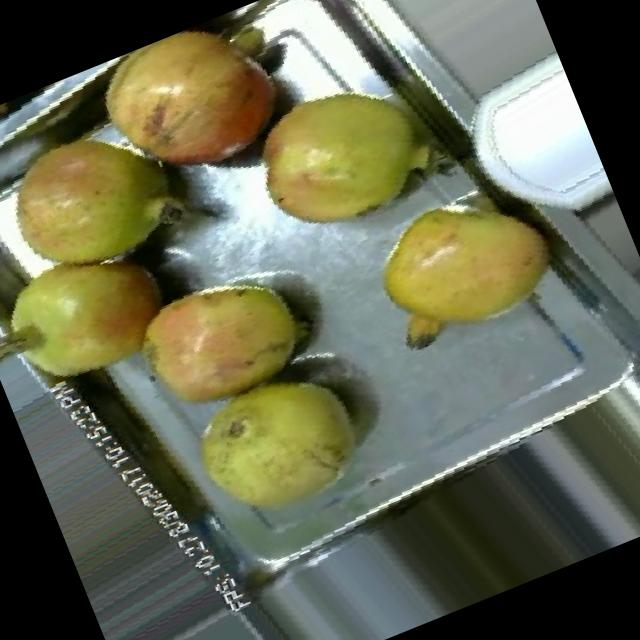fruit: (334, 149, 594, 388), (68, 0, 324, 224), (217, 40, 468, 266), (162, 340, 404, 554), (0, 85, 218, 308), (106, 234, 341, 439), (0, 206, 200, 422)
